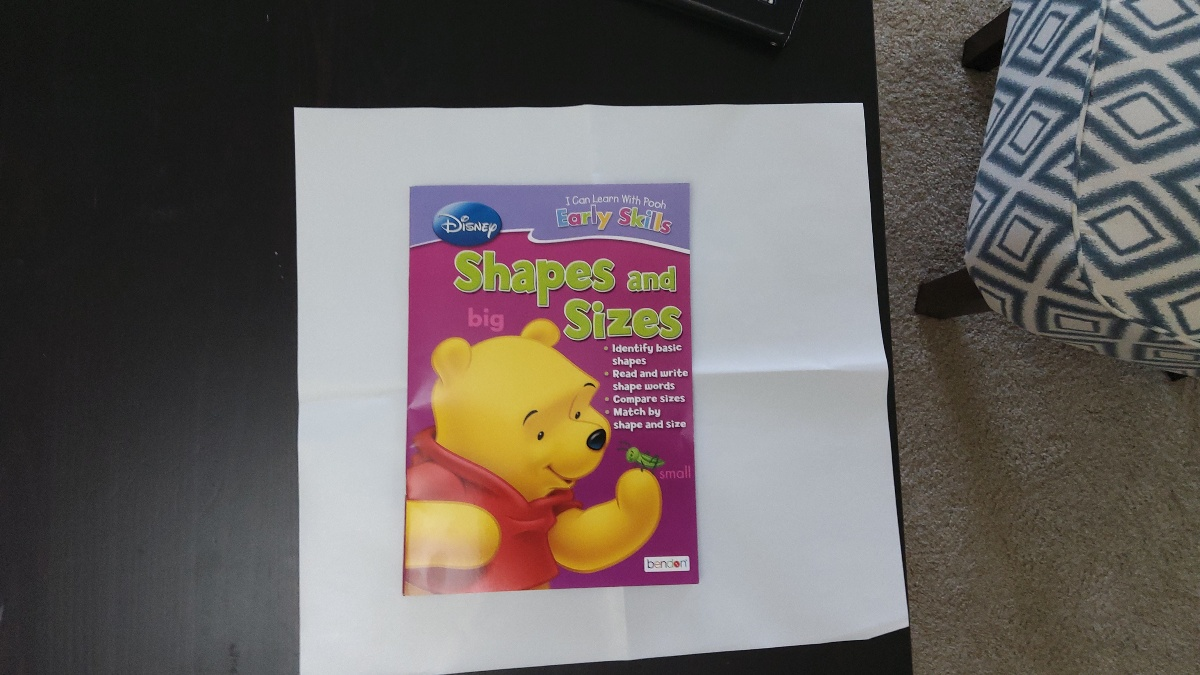book: (413, 185, 697, 586)
